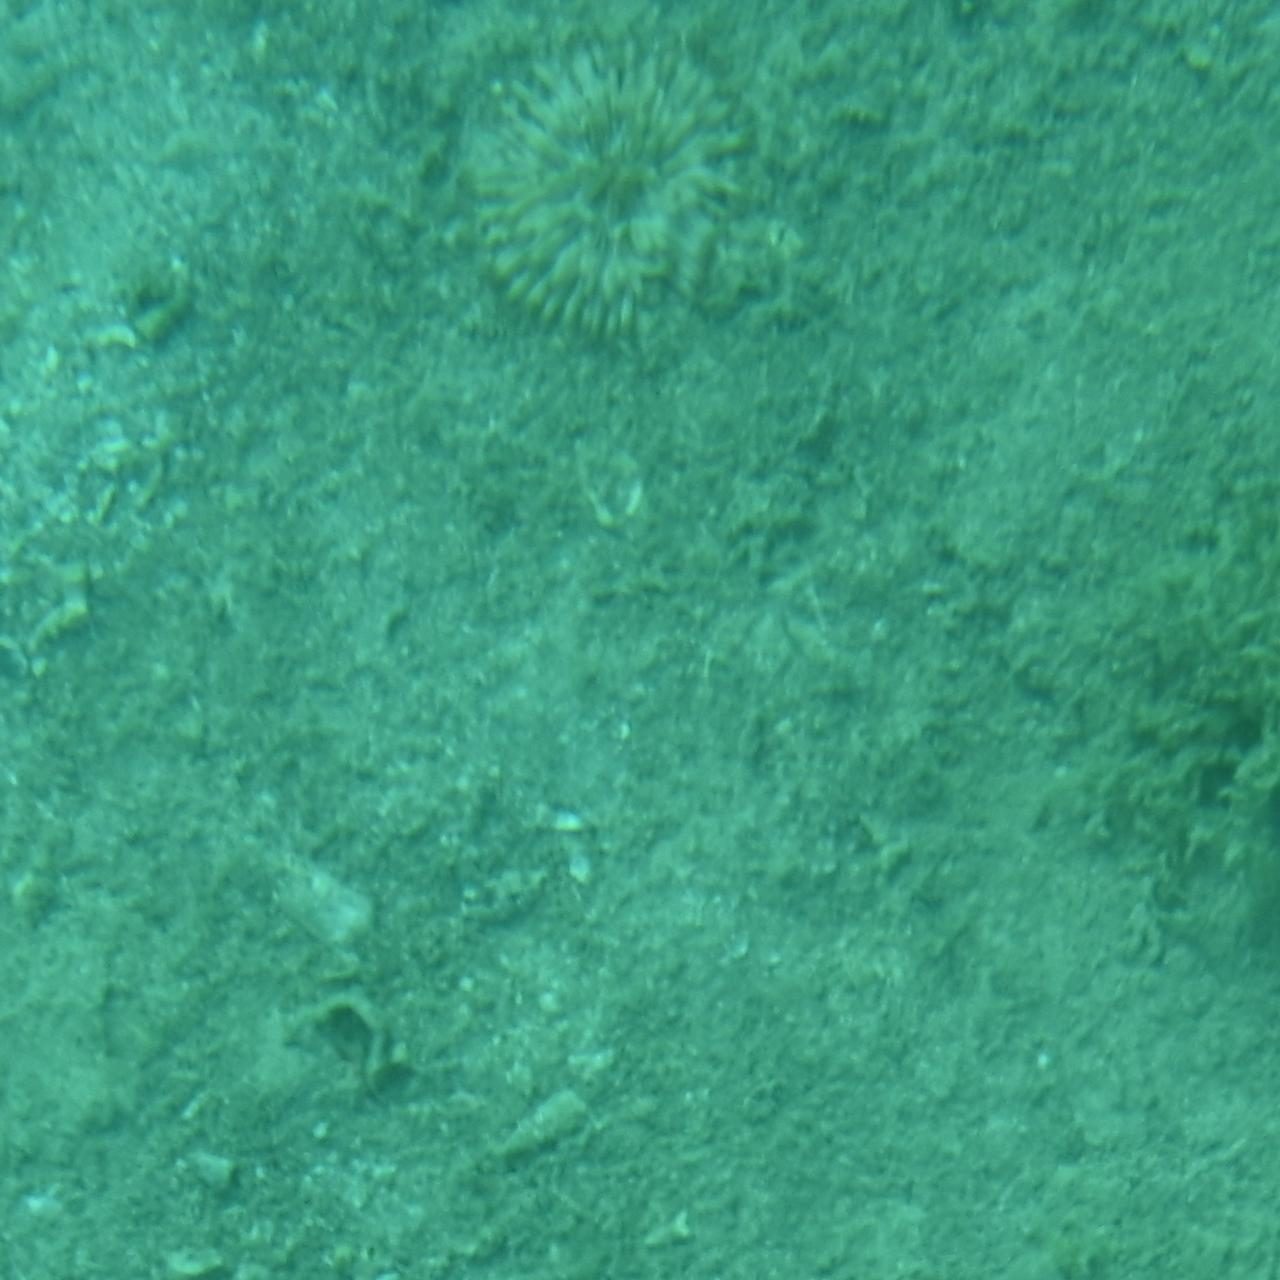Condylactis aurantiaca: (440, 32, 840, 370)
